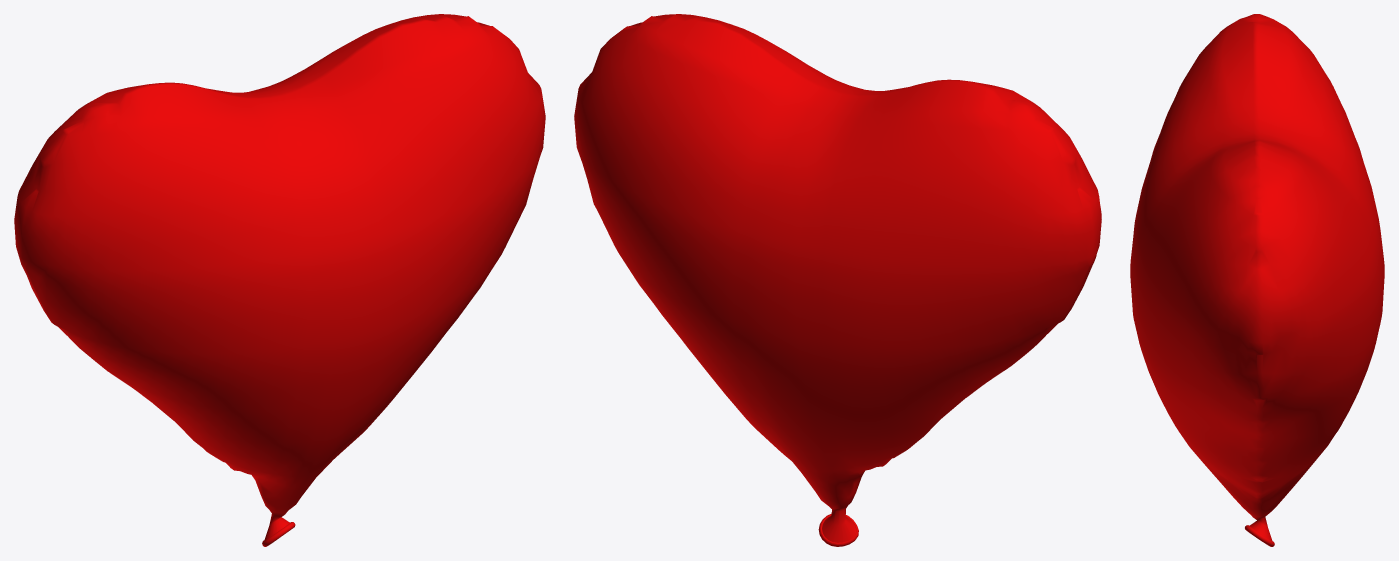
File: gog_herzballoon_mesh.fbx
3 views of the same model, side by side, from view 1: azimuth 30°, elevation 25°; view 2: azimuth 150°, elevation 25°; view 3: azimuth 270°, elevation 25° (orthographic). The views are drawn at different scales.
Parts seen in each view (by area): view 1: pTorus2; view 2: pTorus2; view 3: pTorus2.
Boxes of the visible parts, box(x1,y1,x2,y2) form: pTorus2: box(14, 14, 545, 546); pTorus2: box(574, 14, 1101, 546); pTorus2: box(1130, 14, 1384, 546).
Bounding box in the file's own units: 22.37 × 20.31 × 10.25.
